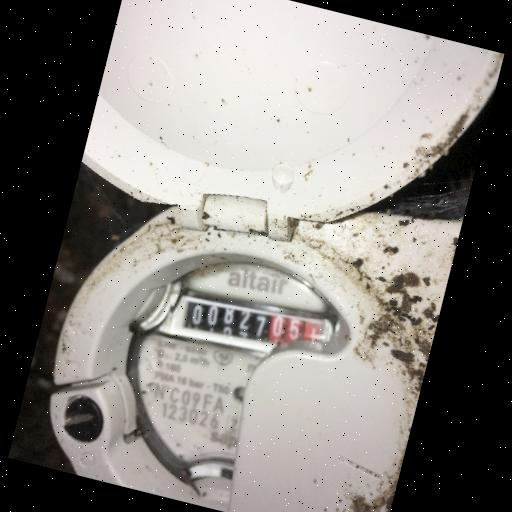0: (265, 313, 291, 346), (183, 300, 208, 332), (201, 303, 225, 335)
1: (301, 320, 324, 345)
2: (231, 307, 257, 341)
5: (282, 316, 308, 346)
7: (248, 311, 274, 344)
8: (216, 305, 241, 338)
border_water_meter_number: (176, 285, 338, 374)
